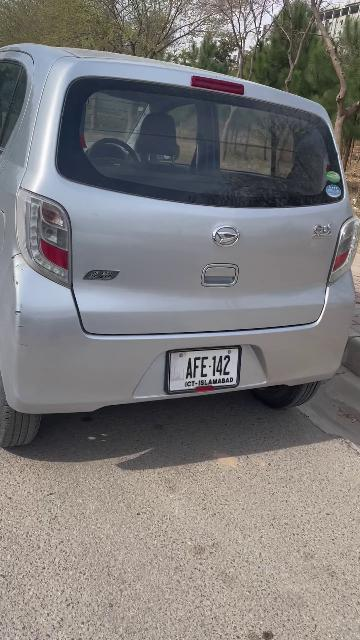plate: (168, 347, 240, 393)
